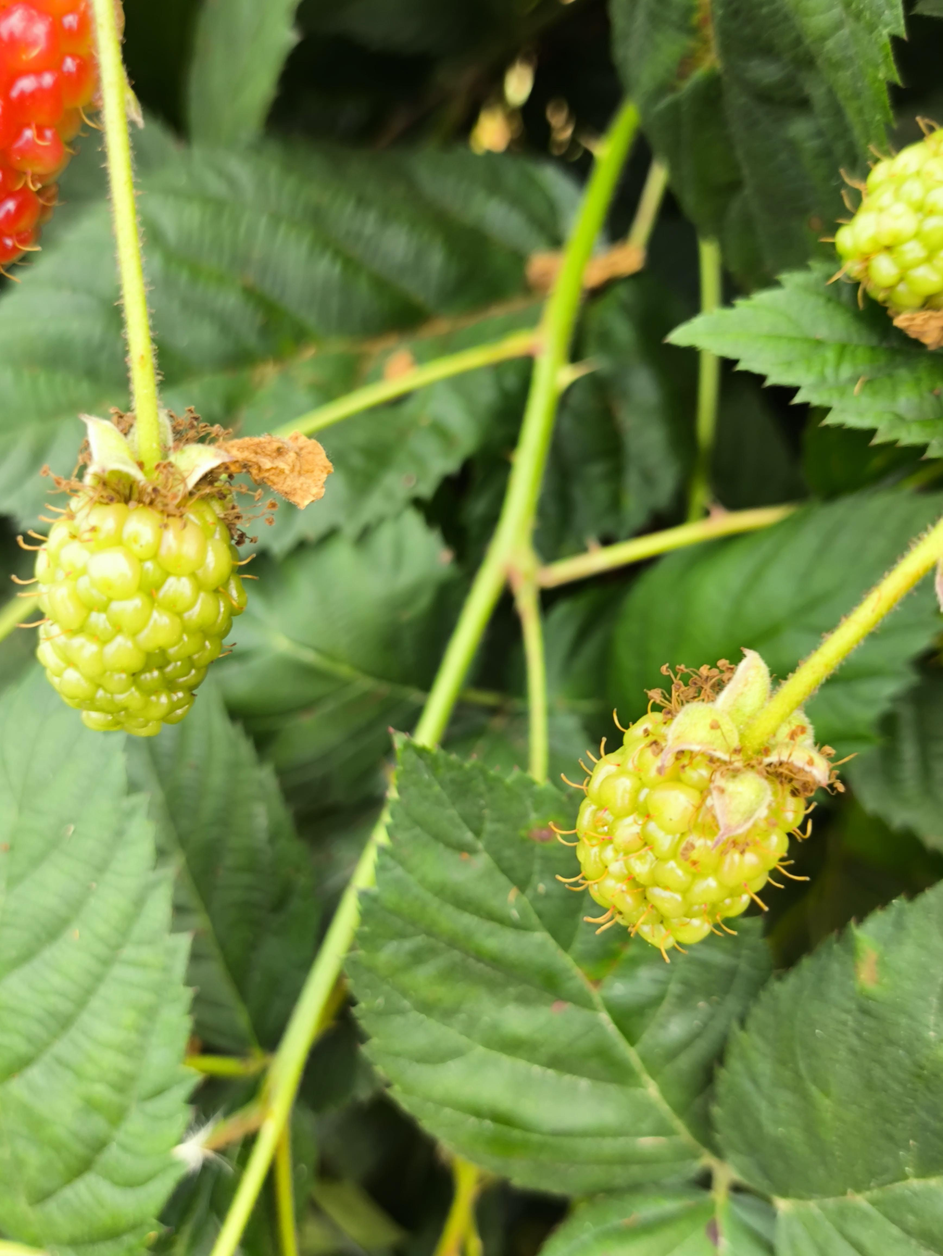verde: (567, 653, 833, 956), (35, 416, 246, 737), (834, 124, 943, 317)
